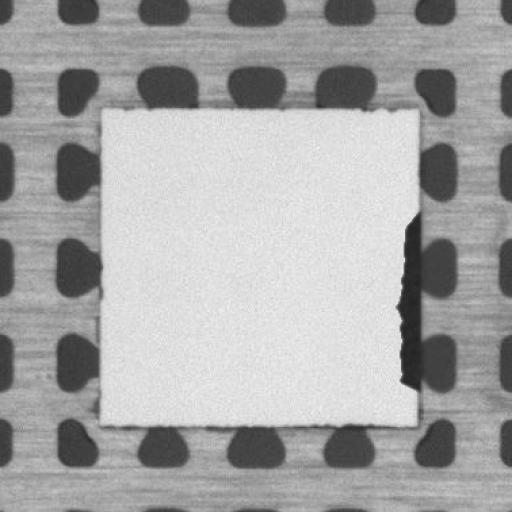DIE_BROKEN: (396, 213, 422, 396)
